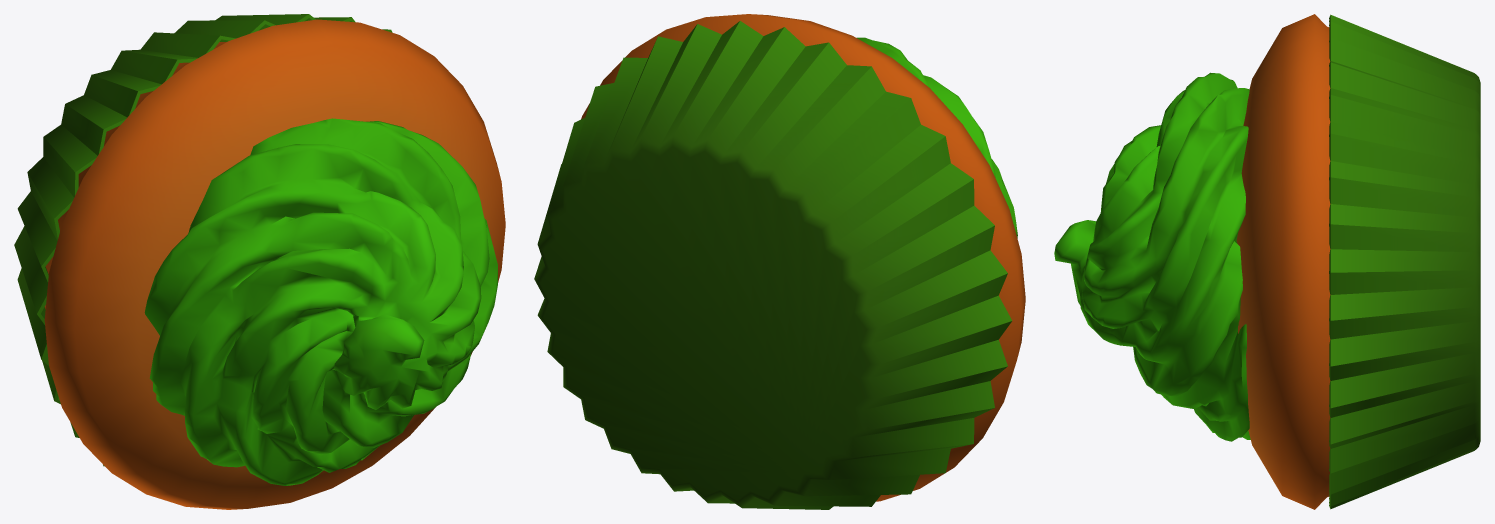
Rendered from Cupcake Tray Sort - Cake 3.fbx.
3 views of the same model, side by side, from view 1: azimuth 30°, elevation 25°; view 2: azimuth 150°, elevation 25°; view 3: azimuth 270°, elevation 25° (orthographic). The views are drawn at different scales.
Visible parts, largest first — view 1: 3. icing green; view 2: 3. icing green; view 3: 3. icing green.
Part boxes in pixels (box(x1,y1,x2,y2)): 3. icing green: box(14, 14, 505, 509); 3. icing green: box(534, 14, 1025, 509); 3. icing green: box(1054, 14, 1480, 509).
Bounding box in the file's own units: 0.1375 × 0.1375 × 0.1181.
